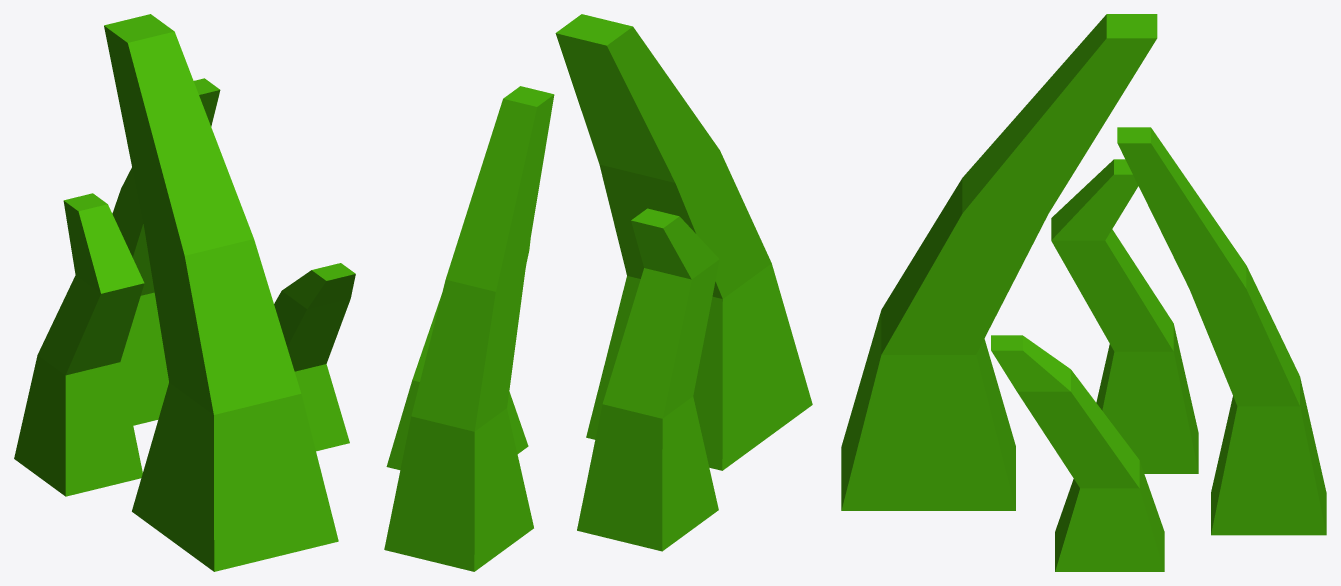
Rendered from grass.fbx.
3 views of the same model, side by side, from view 1: azimuth 30°, elevation 25°; view 2: azimuth 150°, elevation 25°; view 3: azimuth 270°, elevation 25° (orthographic). The views are drawn at different scales.
Visible parts, largest first — view 1: Cube.003; view 2: Cube.003; view 3: Cube.003.
Boxes of the visible parts, <box> form: Cube.003: <box>14,14,355,571</box>; Cube.003: <box>384,14,812,571</box>; Cube.003: <box>841,14,1326,571</box>.
Bounding box in the file's own units: 49.94 × 76.94 × 73.94.
